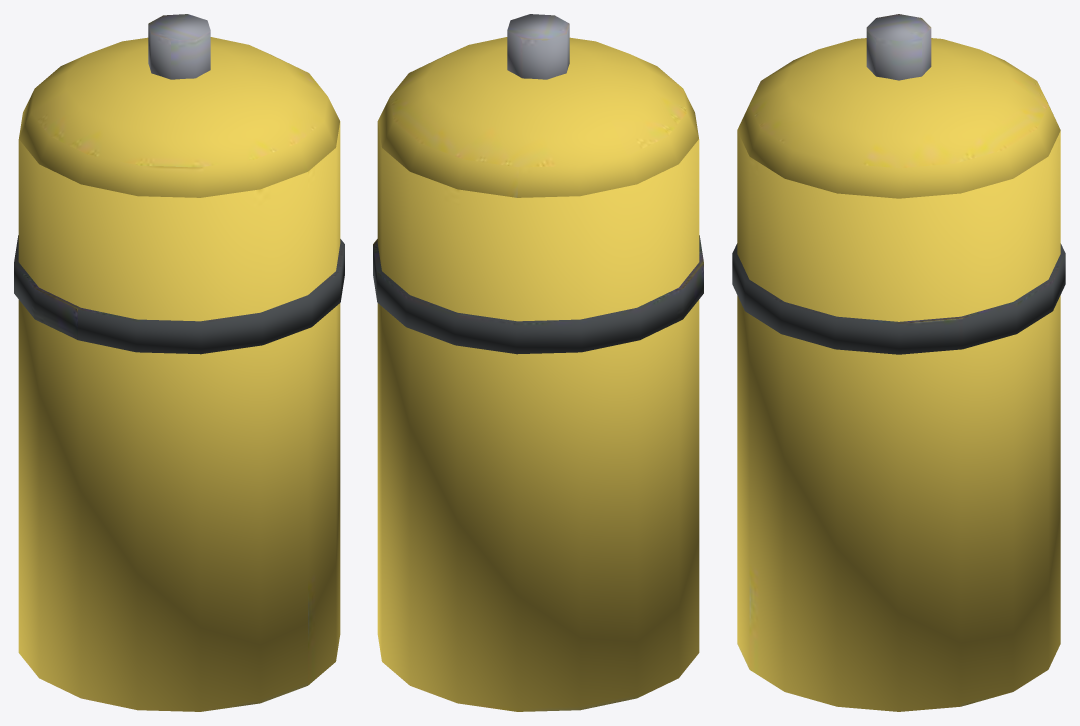
Rendered from barrel.glb.
3 renders of one model, left to right at view 1: azimuth 30°, elevation 25°; view 2: azimuth 150°, elevation 25°; view 3: azimuth 270°, elevation 25°, orthographic.
Parts seen in each view (by area): view 1: barrel; view 2: barrel; view 3: barrel.
Part boxes in pixels (x1=…): barrel: x1=14, y1=14, x2=344, y2=711; barrel: x1=373, y1=14, x2=703, y2=711; barrel: x1=732, y1=14, x2=1065, y2=711.
Bounding box in the file's own units: 0.412 × 0.84 × 0.412.
Materials: 1 (1 with a texture image).
